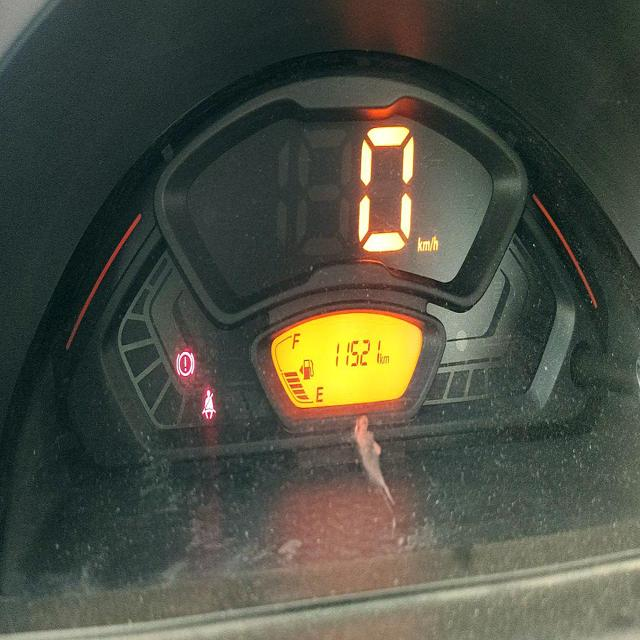odometer: (332, 335, 381, 370)
